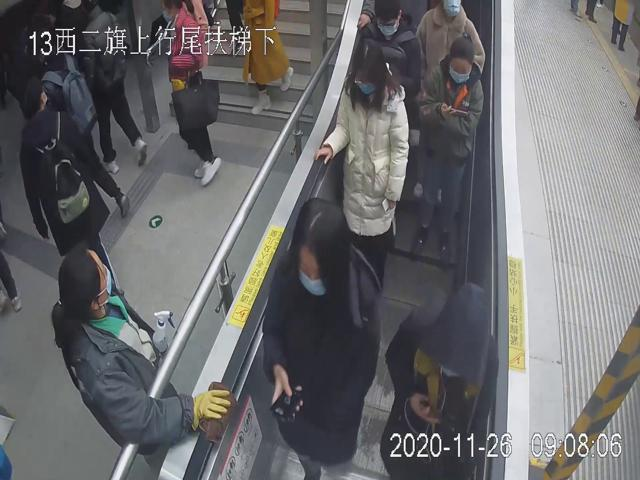person: (49, 243, 234, 453), (262, 194, 382, 480), (17, 73, 122, 299), (314, 38, 409, 283), (412, 31, 485, 269), (349, 0, 422, 100)
